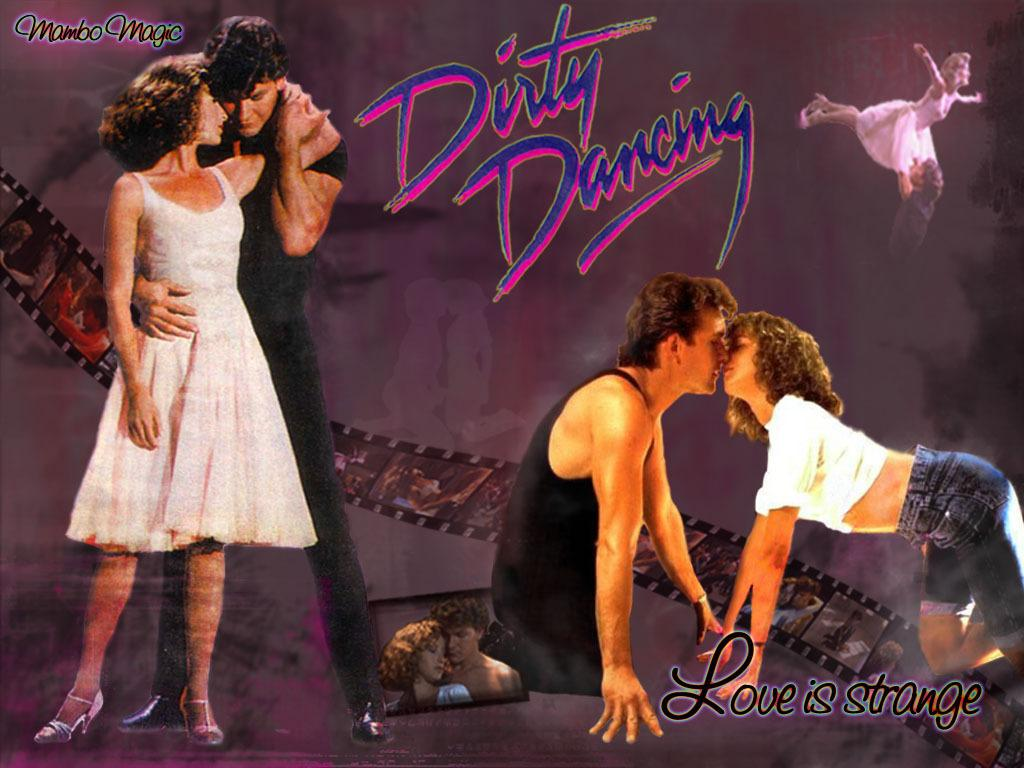face: (676, 307, 729, 394), (221, 74, 275, 137), (181, 75, 227, 143), (723, 321, 760, 388), (438, 621, 476, 664), (417, 632, 447, 681), (775, 581, 796, 606), (790, 584, 811, 607), (955, 62, 971, 86), (910, 163, 927, 181)
